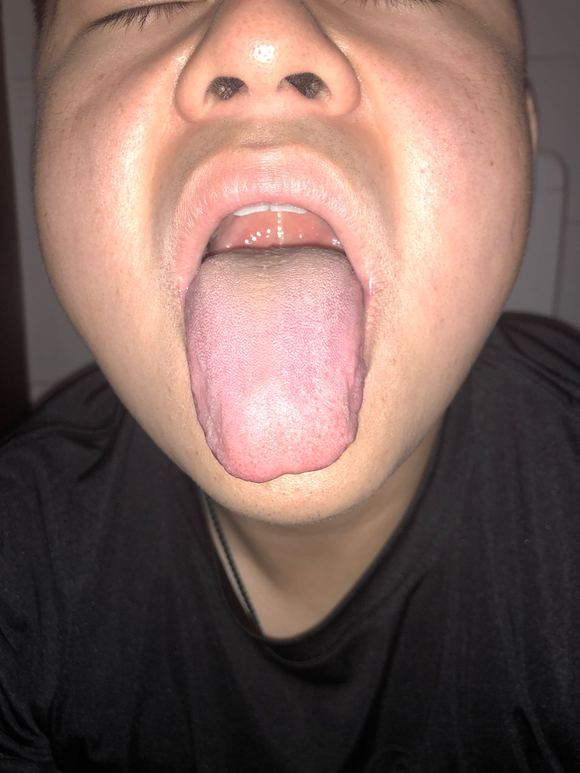huangtaishe: (184, 248, 365, 482)
